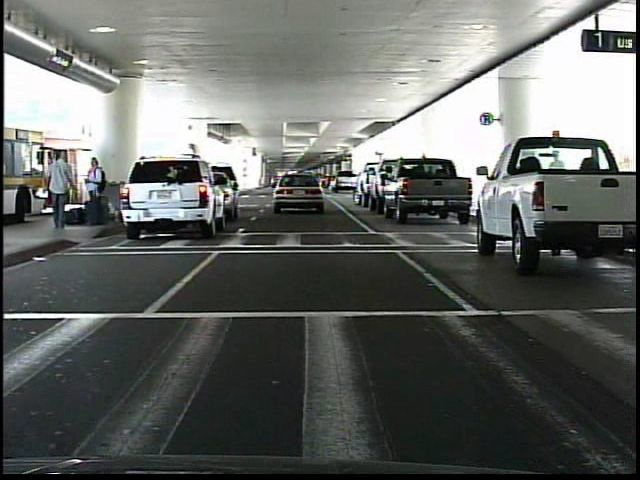person: (47, 150, 81, 234), (84, 155, 110, 229)
